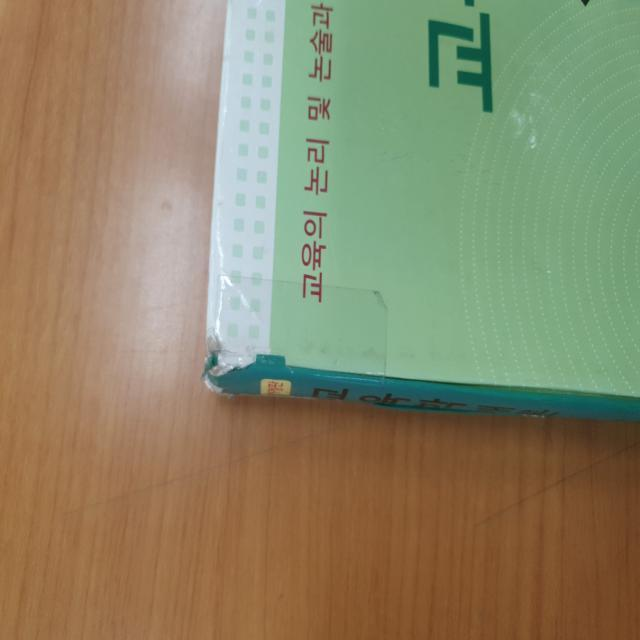Ripped: (204, 348, 301, 380), (201, 374, 236, 401)
Wornout: (204, 323, 225, 350)
